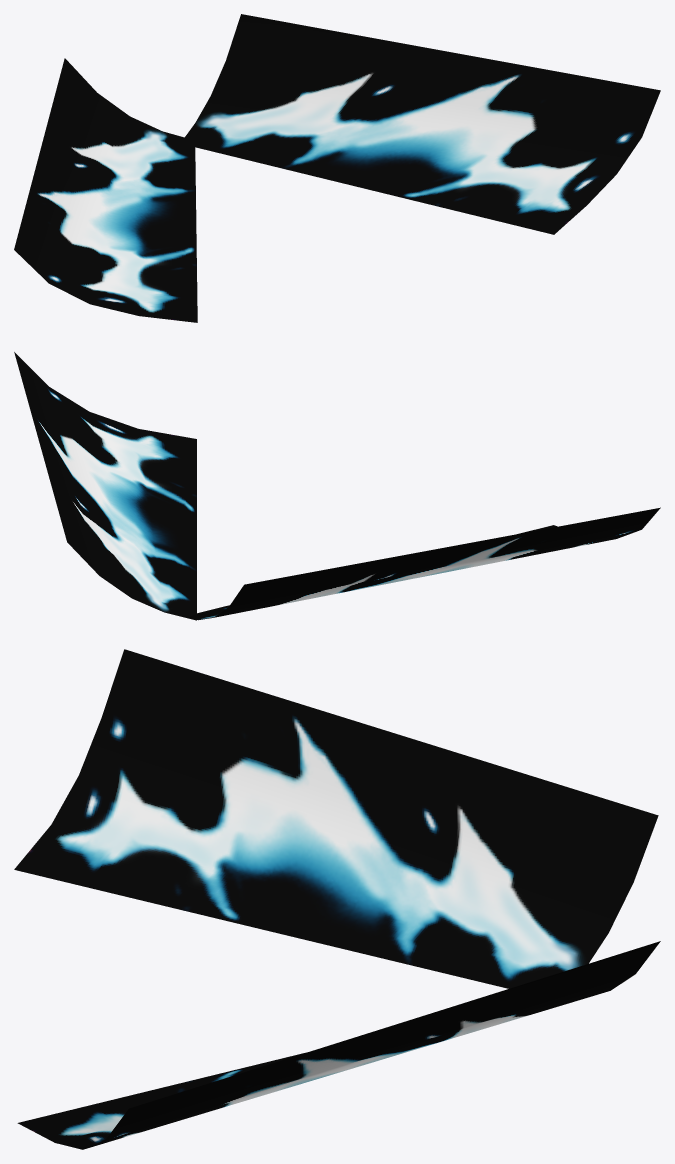
File: fbx_skill_x_102_staff_skill_19.FBX
The picture shows the model from 3 angles, top to bottom: view 1: azimuth 30°, elevation 25°; view 2: azimuth 150°, elevation 25°; view 3: azimuth 270°, elevation 25°; orthographic projection. The views are drawn at different scales.
Visible parts, largest first — view 1: Sphere001; view 2: Sphere001; view 3: Sphere001.
Boxes of the visible parts, <box> form: Sphere001: <box>14,14,660,322</box>; Sphere001: <box>14,352,660,620</box>; Sphere001: <box>14,649,660,1149</box>.
Size of the model in its own units: 663 by 395 by 79.02.
Materials: 1 (1 with a texture image).
